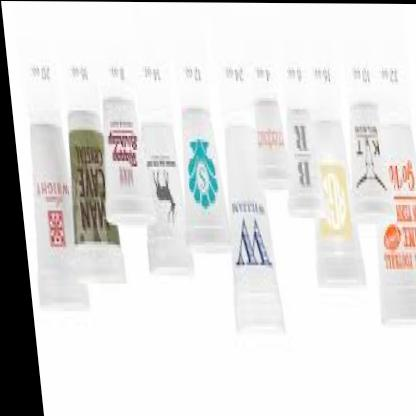Plastic: (0, 0, 416, 407)
